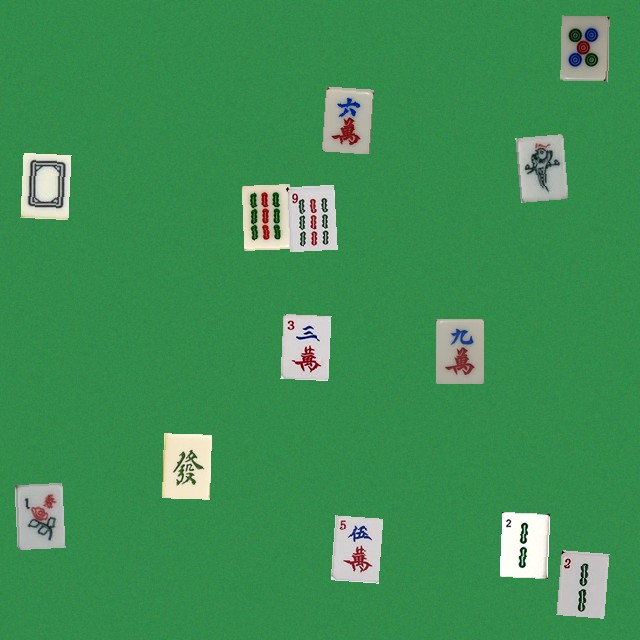tile: (14, 482, 62, 547), (556, 550, 604, 615), (435, 318, 483, 383), (330, 515, 378, 580), (515, 134, 563, 199), (20, 152, 68, 217), (241, 184, 289, 249), (560, 15, 608, 80), (321, 86, 369, 151), (286, 184, 334, 249), (161, 433, 209, 498), (499, 511, 547, 576), (280, 313, 328, 378)
